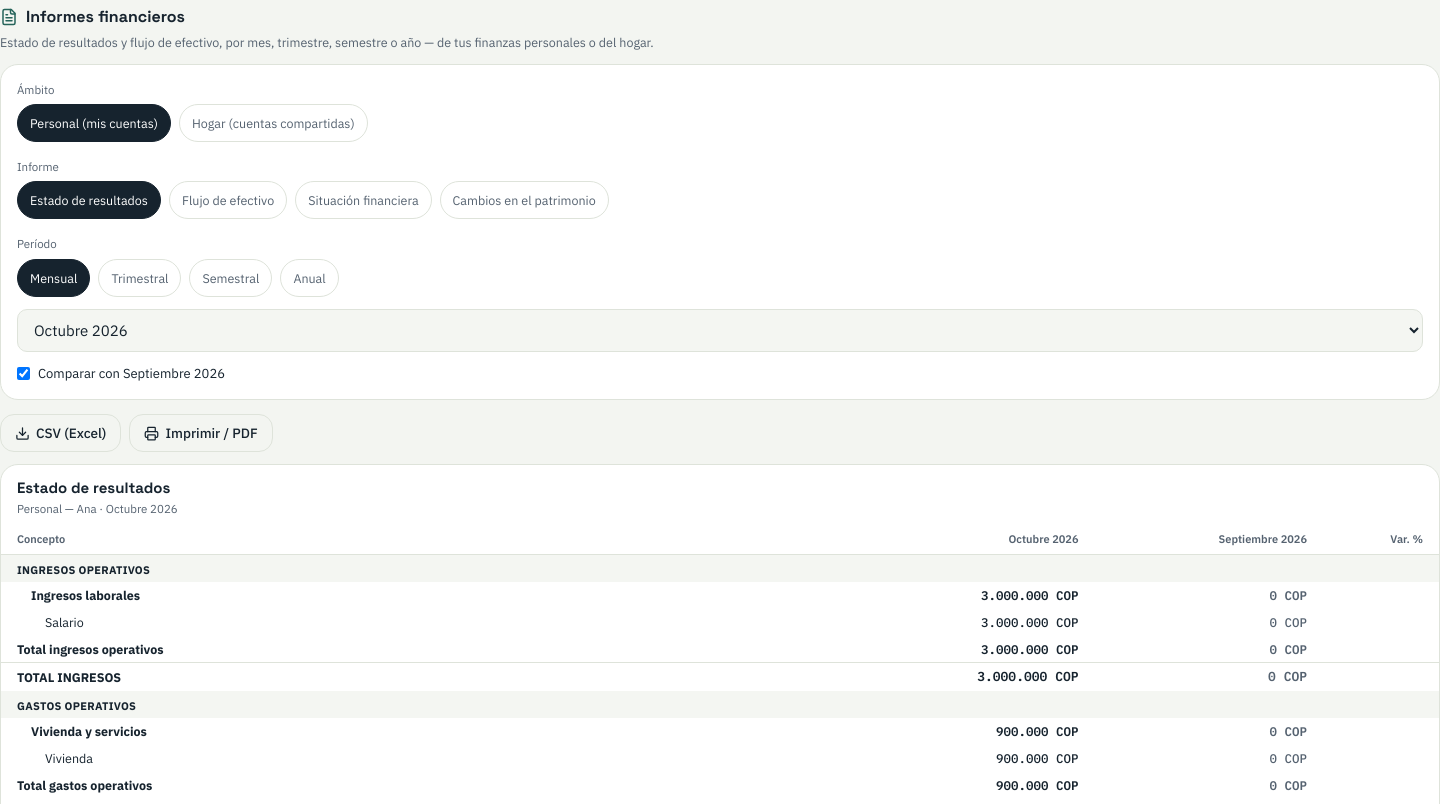
Informes (prueba de humo) › cambia al flujo de efectivo y confirma que cuadra con los saldos
Click the button "Flujo de efectivo".
click(228, 200)  # box [169, 181, 287, 219]
(page scrolled)
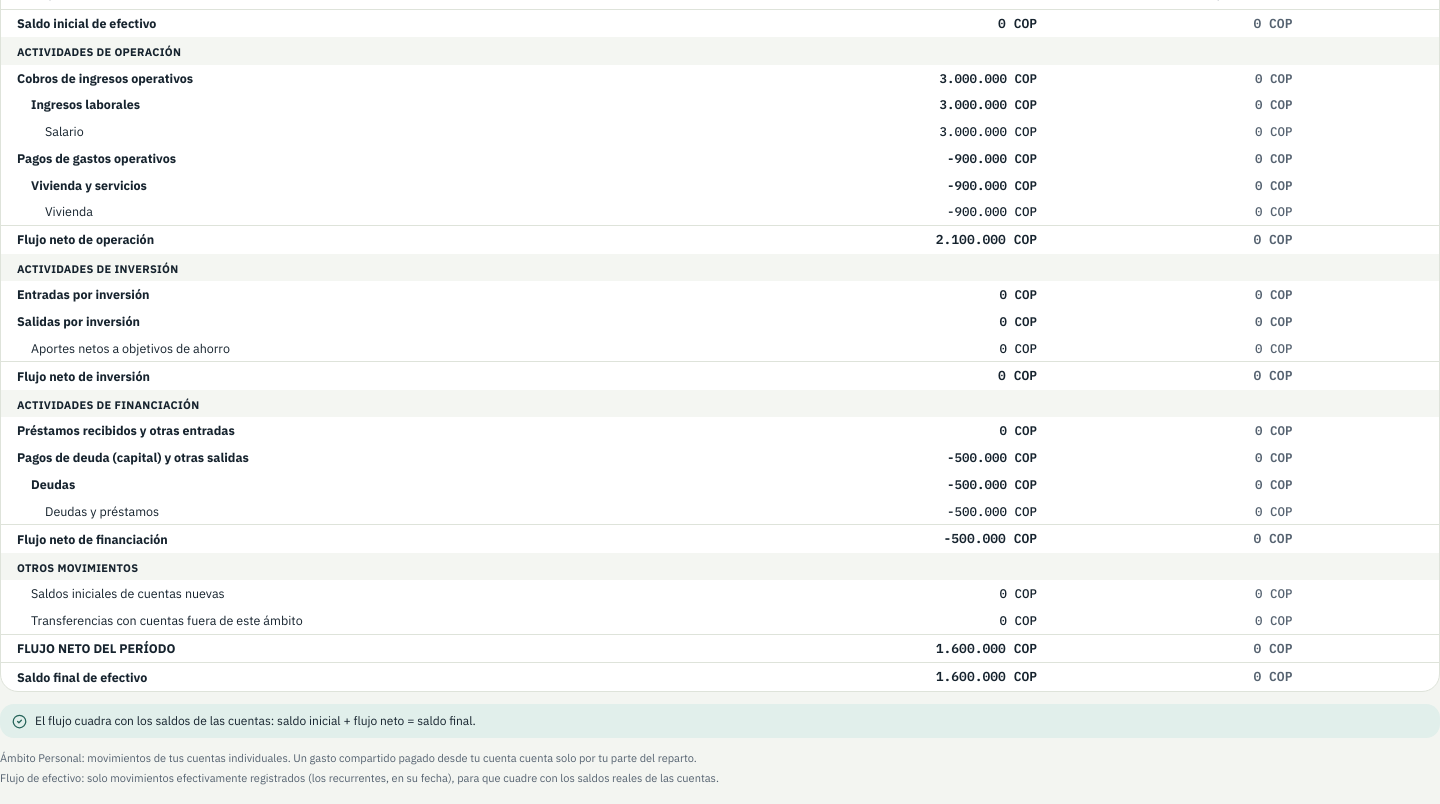
expect the text "FLUJO NETO DEL PERÍODO" is shown: met, box [1, 634, 758, 663]
expect the text "El flujo cuadra con los saldos" is shown: met, box [35, 713, 476, 728]
